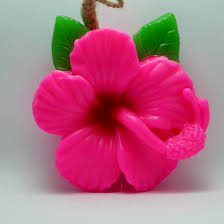hybiscus: (31, 27, 213, 193)
